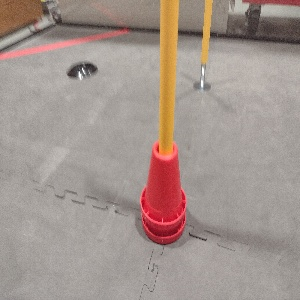Red_2: (137, 141, 187, 245)
